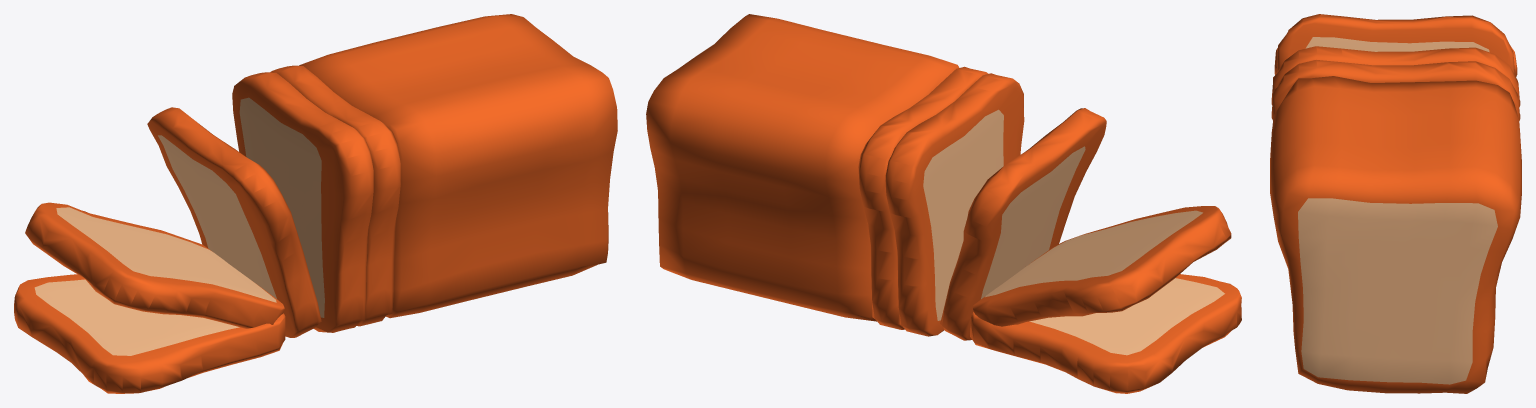
File: Sliced_Bread.fbx
3 views of the same model, side by side, from view 1: azimuth 30°, elevation 25°; view 2: azimuth 150°, elevation 25°; view 3: azimuth 270°, elevation 25° (orthographic). The views are drawn at different scales.
Parts seen in each view (by area): view 1: Food_Bread, Food_Bread4, Food_Bread1, Food_Bread2, Food_Bread3, Food_Bread5; view 2: Food_Bread, Food_Bread4, Food_Bread1, Food_Bread2, Food_Bread3, Food_Bread5; view 3: Food_Bread, Food_Bread3, Food_Bread5, Food_Bread4.
Boxes of the visible parts, x1,y1,x2,y2 form: Food_Bread: [299, 14, 617, 318]; Food_Bread4: [232, 72, 373, 332]; Food_Bread1: [14, 274, 285, 393]; Food_Bread2: [25, 202, 284, 328]; Food_Bread3: [147, 107, 321, 337]; Food_Bread5: [270, 65, 400, 326]; Food_Bread: [646, 14, 959, 321]; Food_Bread4: [885, 73, 1024, 336]; Food_Bread1: [970, 274, 1241, 393]; Food_Bread2: [973, 206, 1231, 326]; Food_Bread3: [940, 108, 1106, 340]; Food_Bread5: [858, 66, 988, 329]; Food_Bread: [1270, 76, 1521, 393]; Food_Bread3: [1276, 14, 1514, 73]; Food_Bread5: [1271, 60, 1520, 120]; Food_Bread4: [1271, 46, 1520, 106].
Size of the model in its own units: 31.52 by 12.56 by 13.07.
1 material, 1 textured.
